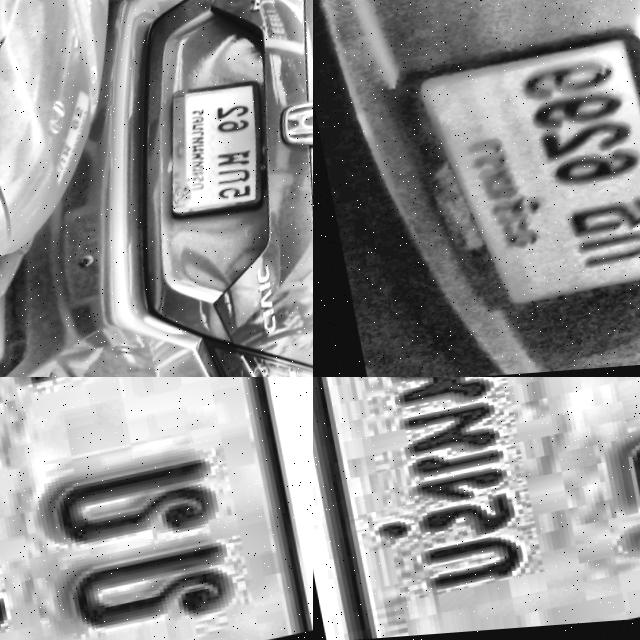license-plate: (313, 377, 640, 640), (0, 377, 313, 640), (413, 43, 640, 308), (147, 83, 276, 229)
